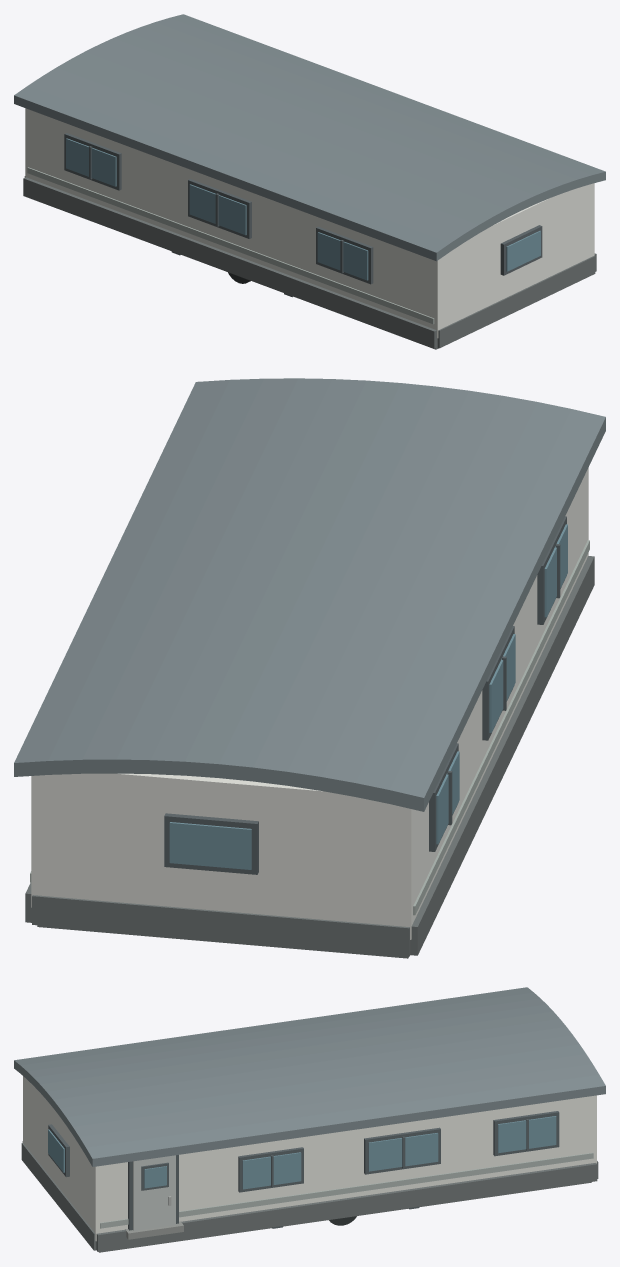
3 renders of one model, top to bottom at view 1: azimuth 30°, elevation 25°; view 2: azimuth 150°, elevation 25°; view 3: azimuth 270°, elevation 25°, orthographic. The views are drawn at different scales.
Parts seen in each view (by area): view 1: shallow_crowned_roof, main_caravan_body, lower_side_skirt_negative, lower_end_skirt_positive, side_stripe_negative, negative_side_window_2_glass, negative_side_window_3_glass, negative_side_window_1_glass, front_end_window_glass, negative_side_window_2_frame, negative_side_window_1_frame, negative_side_window_3_frame (+1 smaller); view 2: shallow_crowned_roof, main_caravan_body, lower_end_skirt_negative, lower_side_skirt_negative, rear_end_window_glass, side_stripe_negative, rear_end_window_frame, negative_side_window_2_glass, negative_side_window_1_glass, negative_side_window_3_glass, underframe_main, negative_side_window_2_frame; view 3: shallow_crowned_roof, main_caravan_body, lower_side_skirt_positive, side_stripe_positive, entrance_door_panel, positive_side_window_2_glass, positive_side_window_3_glass, positive_side_window_1_glass, lower_end_skirt_positive, positive_side_window_2_frame, positive_side_window_1_frame, positive_side_window_3_frame (+5 smaller).
Part boxes in pixels (box(x1,y1,x2,y2)): shallow_crowned_roof: box(14, 14, 605, 261); main_caravan_body: box(25, 108, 594, 338); lower_side_skirt_negative: box(23, 177, 437, 348); lower_end_skirt_positive: box(437, 255, 595, 348); side_stripe_negative: box(27, 167, 434, 324); negative_side_window_2_glass: box(189, 184, 246, 235); negative_side_window_3_glass: box(317, 232, 368, 280); negative_side_window_1_glass: box(66, 138, 116, 186); front_end_window_glass: box(506, 230, 540, 271); negative_side_window_2_frame: box(188, 179, 251, 238); negative_side_window_1_frame: box(64, 133, 121, 190); negative_side_window_3_frame: box(316, 226, 373, 284); shallow_crowned_roof: box(14, 378, 605, 811); main_caravan_body: box(31, 468, 588, 939); lower_end_skirt_negative: box(32, 895, 410, 956); lower_side_skirt_negative: box(410, 556, 594, 955); rear_end_window_glass: box(169, 822, 251, 869); side_stripe_negative: box(413, 540, 589, 915); rear_end_window_frame: box(164, 813, 258, 874); negative_side_window_2_glass: box(489, 634, 515, 732); negative_side_window_1_glass: box(436, 751, 459, 844); negative_side_window_3_glass: box(544, 524, 567, 617); underframe_main: box(37, 925, 408, 958); negative_side_window_2_frame: box(482, 626, 514, 740); shallow_crowned_roof: box(14, 987, 605, 1166); main_caravan_body: box(23, 1076, 596, 1241); lower_side_skirt_positive: box(96, 1163, 597, 1251); side_stripe_positive: box(100, 1152, 593, 1228); entrance_door_panel: box(133, 1155, 175, 1230); positive_side_window_2_glass: box(368, 1133, 438, 1171); positive_side_window_3_glass: box(242, 1152, 301, 1189); positive_side_window_1_glass: box(498, 1116, 556, 1153); lower_end_skirt_positive: box(21, 1143, 96, 1250); positive_side_window_2_frame: box(364, 1127, 440, 1174); positive_side_window_1_frame: box(493, 1111, 559, 1156); positive_side_window_3_frame: box(238, 1147, 303, 1192).
Size of the model in its own units: 7.62 by 2.5 by 11.1.
